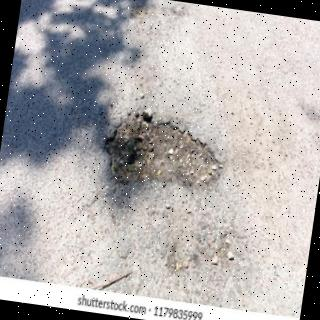pothole: (105, 113, 223, 188)
